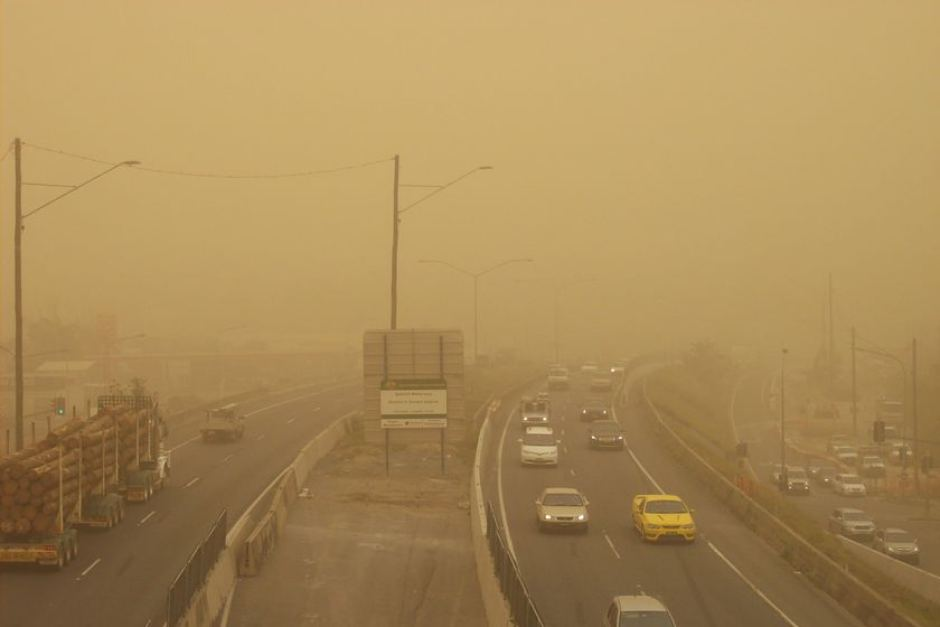car: (630, 493, 697, 543), (533, 486, 591, 532), (606, 589, 678, 625), (827, 507, 877, 542), (517, 427, 559, 467), (879, 528, 922, 565), (586, 419, 624, 450), (779, 467, 809, 492), (576, 397, 608, 419), (833, 471, 864, 492), (545, 368, 570, 390), (889, 442, 912, 464), (859, 456, 882, 477), (588, 371, 613, 390), (818, 464, 838, 483), (805, 455, 820, 478), (771, 462, 783, 481)
truck: (0, 391, 170, 571), (199, 402, 244, 442), (520, 392, 552, 429), (873, 399, 906, 425)
